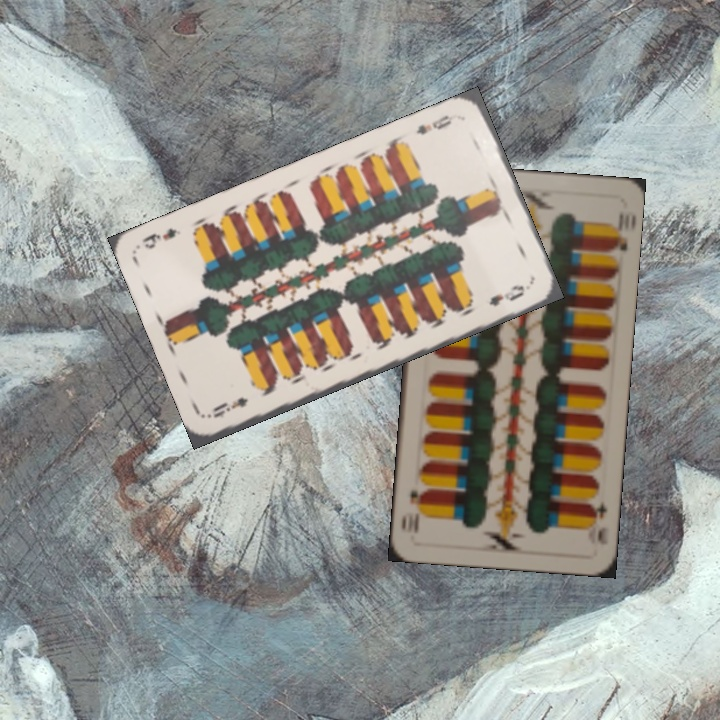E10: (584, 496, 611, 548)
E9: (209, 393, 251, 421), (412, 111, 454, 138)
